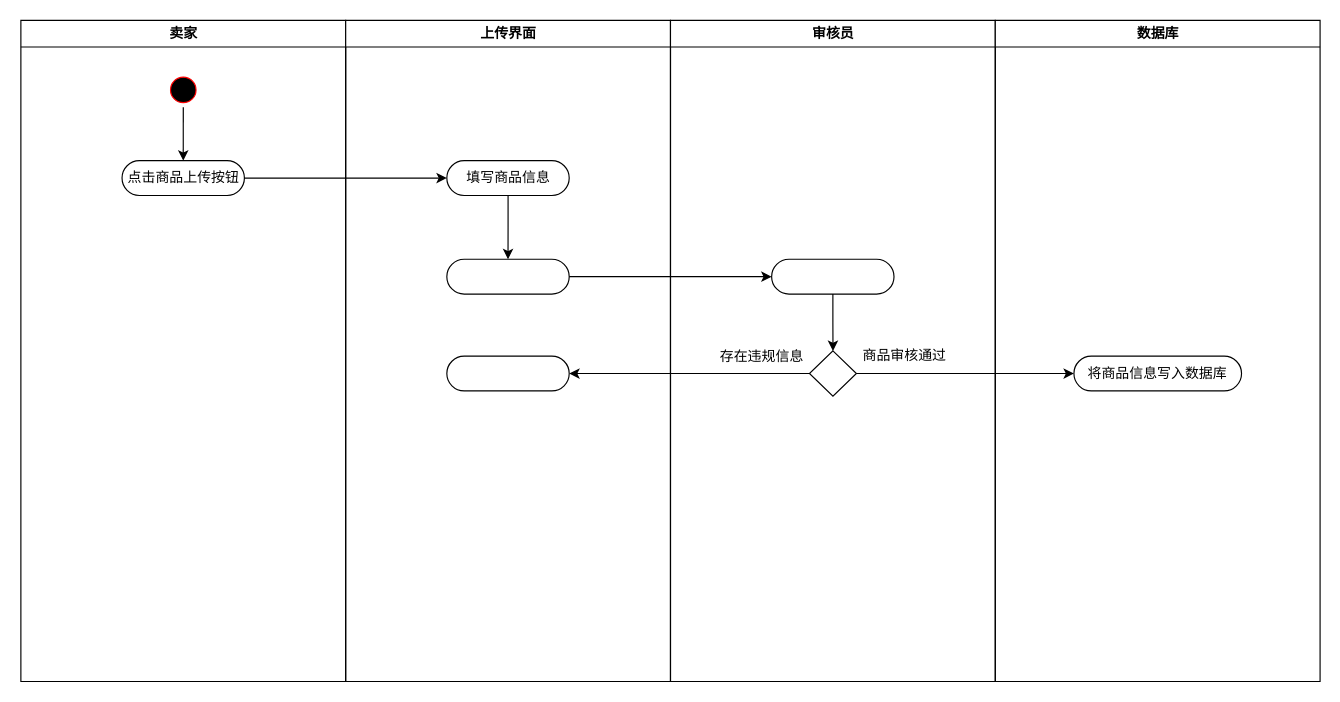
Some shapes in this 1340 by 702 pixel diagram are drawn without their labels. The shapes that lost their labels are listed below. From the top down, each one's centre as x and y in pixels, then its label:
the point at 507,276: 点击上传按钮
the point at 832,276: 审核商品信息
the point at 507,373: 审核不通过
